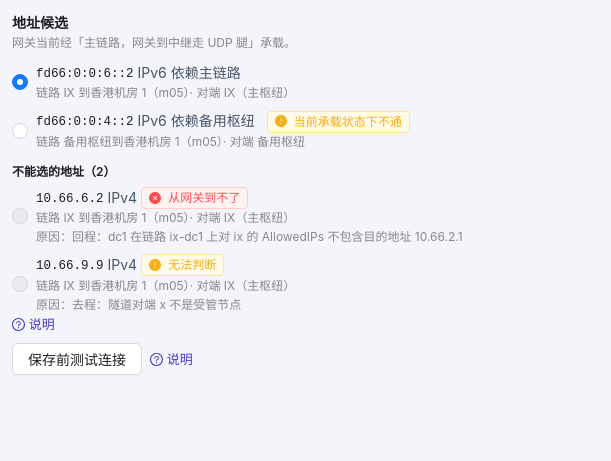
Scenario: servers: tunnel address candidates › tests a candidate before saving and shows the carrying-state note on failure
Check: the element with test id "tunnel-candidates" is shown, box [12,35,463,335]
Click the button with test id "tunnel-test". click: (77, 359)
box: [12,343,142,375]
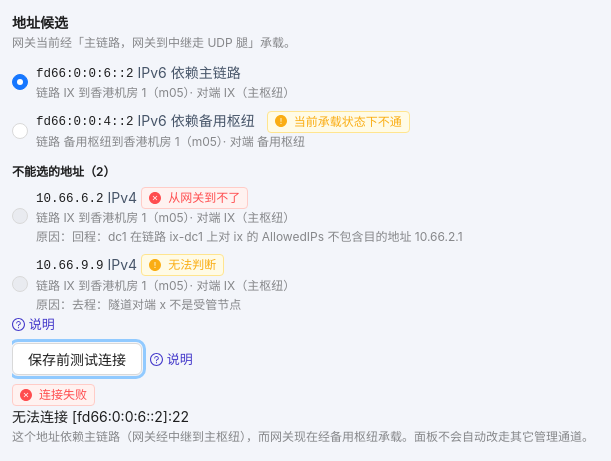
Check: the text with test id "tunnel-test-path-note" shows "网关现在经备用枢纽承载", box [12,429,594,444]
